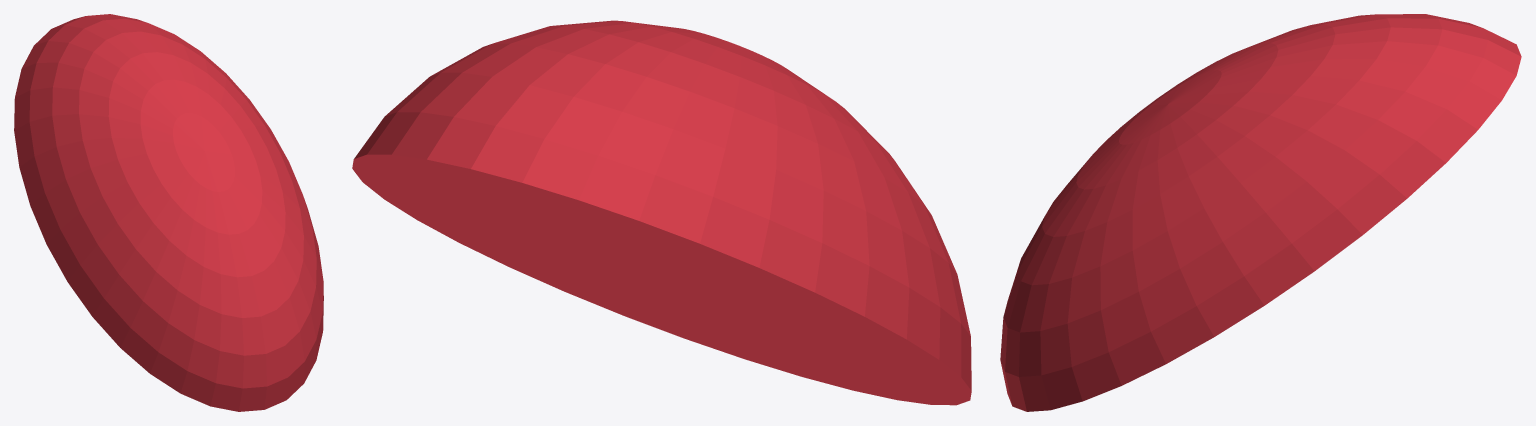
The model's file is amulet.fbx.
The picture shows the model from 3 angles, left to right: view 1: azimuth 30°, elevation 25°; view 2: azimuth 150°, elevation 25°; view 3: azimuth 270°, elevation 25°; orthographic projection. The views are drawn at different scales.
Parts seen in each view (by area): view 1: Sphere; view 2: Sphere; view 3: Sphere.
Boxes of the visible parts, x1,y1,x2,y2 form: Sphere: [14, 14, 323, 411]; Sphere: [352, 20, 971, 405]; Sphere: [1000, 14, 1521, 411].
Size of the model in its own units: 23.04 by 24.51 by 31.58.
